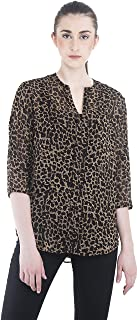shirt: (7, 75, 133, 249)
